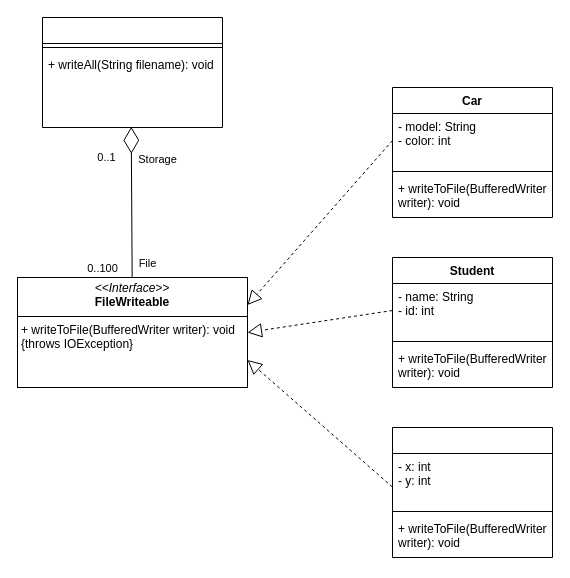
Image size: 570x578. Some labels were removed from this diagram. The shapes that lost their labels are listed below. From the top down, each one's box as (x1, y1, x2, y2) in pixels, then its label:
(42, 16, 222, 128): Database
(392, 426, 552, 558): Point
